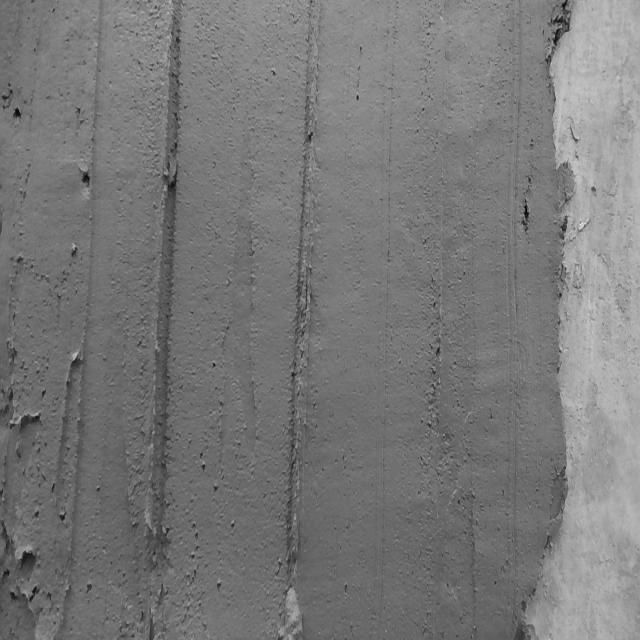trowels marks: (52, 0, 108, 640), (133, 7, 187, 640), (274, 3, 327, 640), (420, 165, 454, 475)
